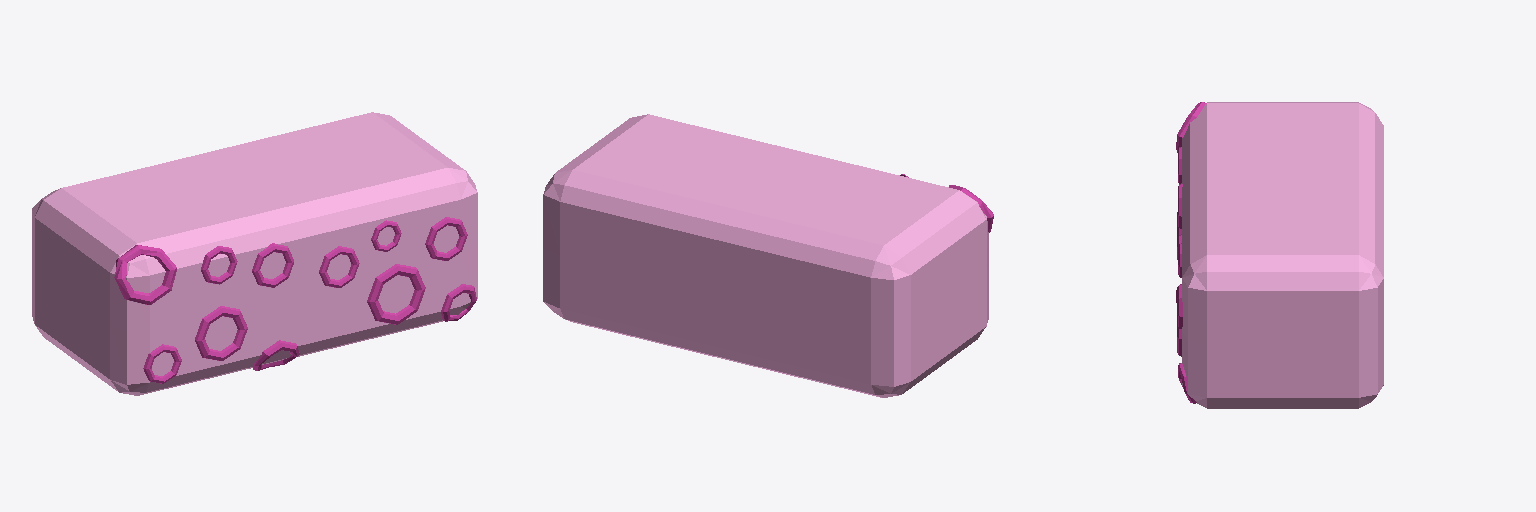
3 views of the same model, side by side, from view 1: azimuth 30°, elevation 25°; view 2: azimuth 150°, elevation 25°; view 3: azimuth 270°, elevation 25° (orthographic).
Visible parts, largest first — view 1: OriginalBrick.003_Cube.005; view 2: OriginalBrick.003_Cube.005; view 3: OriginalBrick.003_Cube.005.
Part boxes in pixels (bbox=[...]): OriginalBrick.003_Cube.005: bbox=[32, 112, 477, 395]; OriginalBrick.003_Cube.005: bbox=[543, 114, 993, 397]; OriginalBrick.003_Cube.005: bbox=[1176, 102, 1383, 408].
Bounding box in the file's own units: 0.9015 × 0.3663 × 0.4442.
Materials: 1 (1 with a texture image).